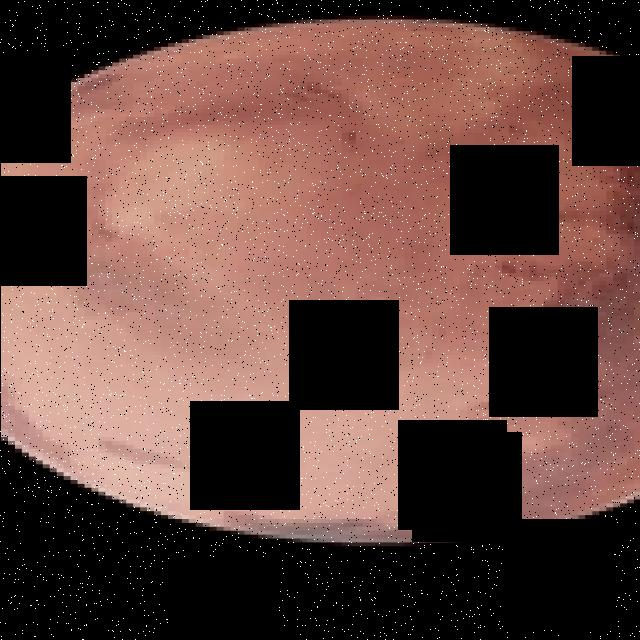Mars: (0, 19, 640, 546)
